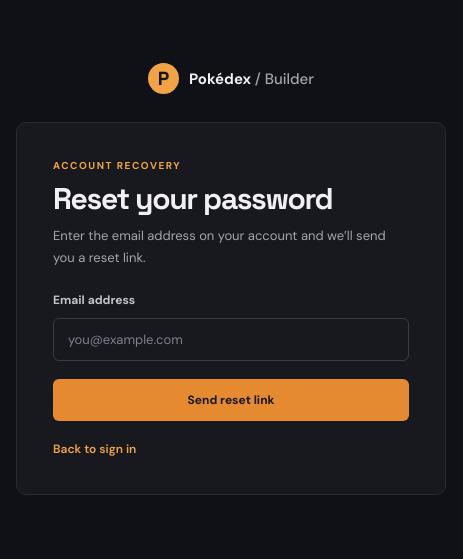
Test case: password recovery › sends a reset email with the app's reset route as redirect
In the field labelled "Email address": coordinates (231, 339) [53,318,409,361], type "trainer@example.com"
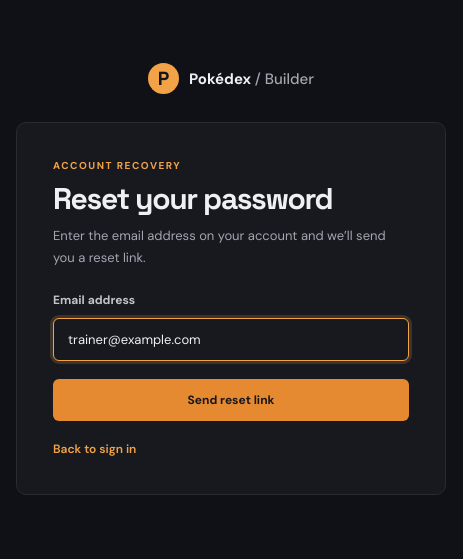
Click the button "Send reset link": coordinates (231, 400) [53,379,409,421]
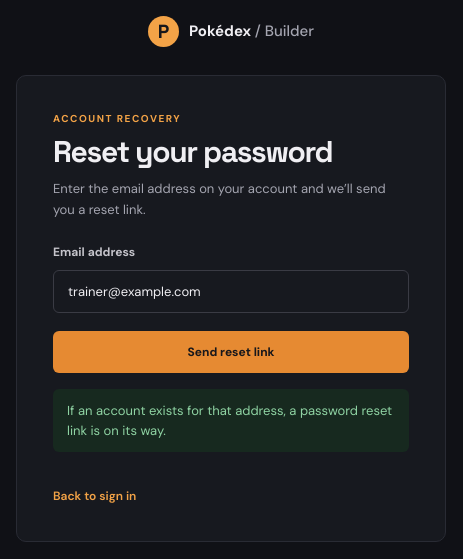
expect the message shows "password reset link": met, box [67,402,392,439]
